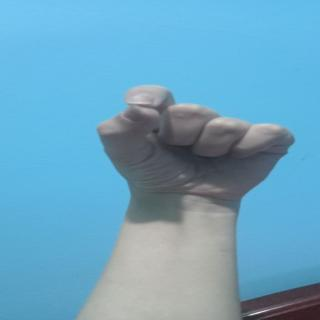FAA: (80, 76, 314, 206)
